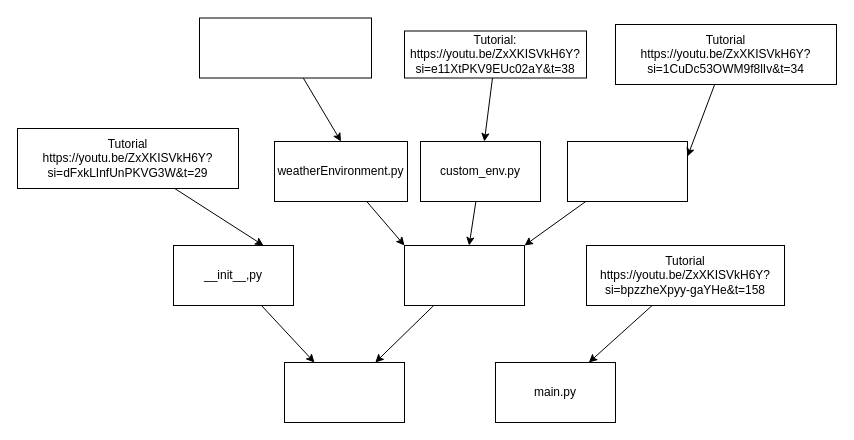
Some shapes in this 854 by 440 pixel diagram are drawn without their labels. Here are the shapes that lost their labels. From the top down, the box of each, then its label:
(198, 17, 372, 78): Tutorial: https://youtu.be/ZxXKISVkH6Y?si=L1xLhGW_vcxjbDyC&t=115
(566, 140, 688, 202): __init__.py
(404, 244, 524, 306): envs
(284, 362, 404, 422): gym_game
